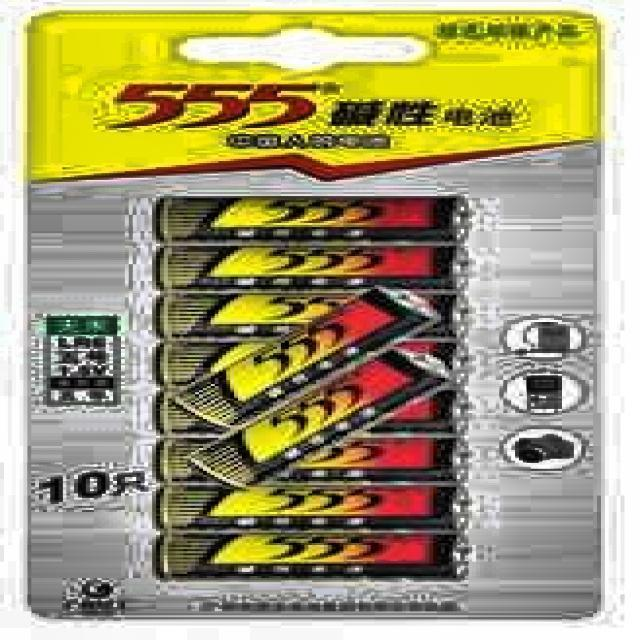battery: (180, 287, 439, 427), (191, 350, 447, 486), (158, 533, 450, 577), (158, 197, 454, 240), (161, 486, 450, 529), (161, 246, 456, 288)
